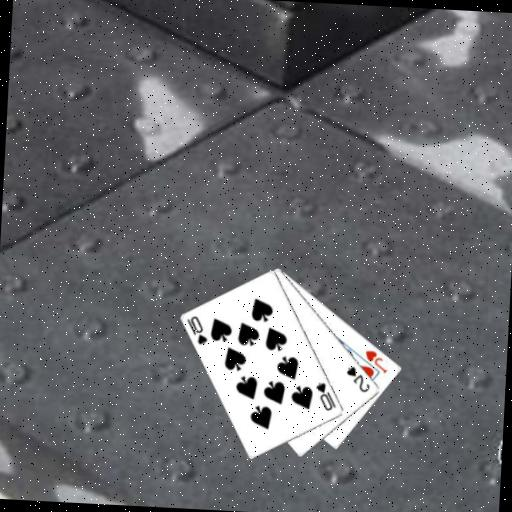10S: (183, 312, 210, 347), (313, 379, 340, 413)
2S: (343, 364, 373, 394)
JH: (362, 347, 390, 375)
